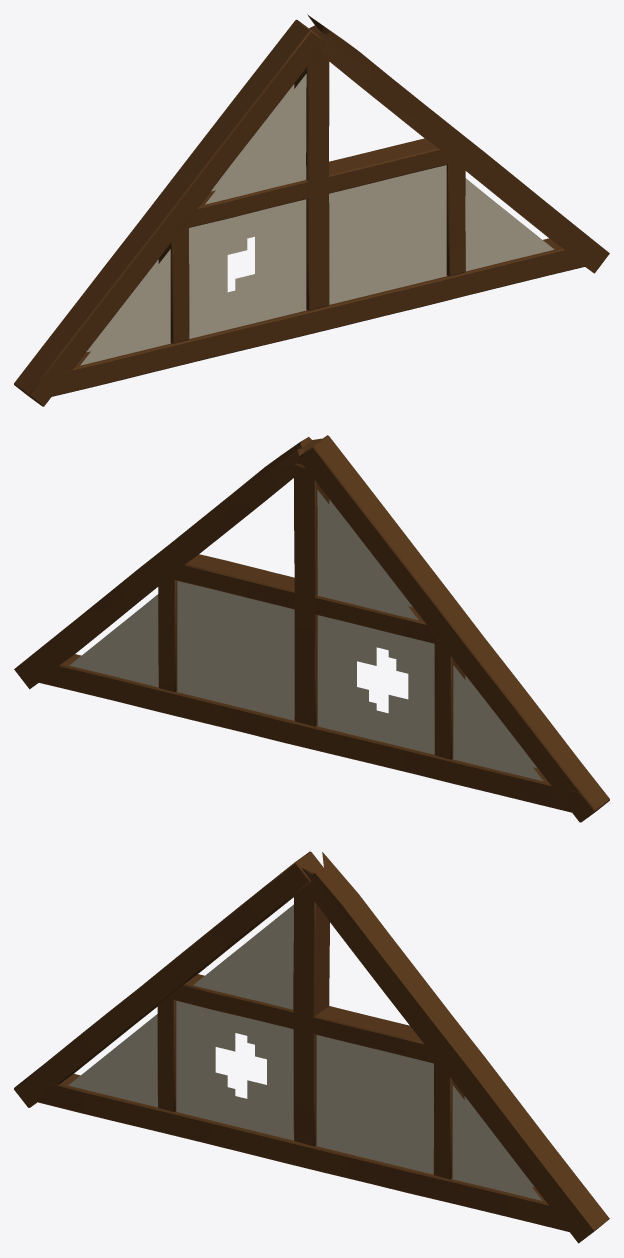
File: giebel_kaputt.glb
3 renders of one model, top to bottom at view 1: azimuth 30°, elevation 25°; view 2: azimuth 150°, elevation 25°; view 3: azimuth 330°, elevation 25°, orthographic.
Parts seen in each view (by area): view 1: giebel_kaputt; view 2: giebel_kaputt; view 3: giebel_kaputt.
Boxes of the visible parts, x1=… form: giebel_kaputt: x1=14, y1=14, x2=609, y2=406; giebel_kaputt: x1=14, y1=435, x2=609, y2=822; giebel_kaputt: x1=14, y1=851, x2=609, y2=1243.
Bounding box in the file's own units: 4.21 × 2.18 × 0.2041.
